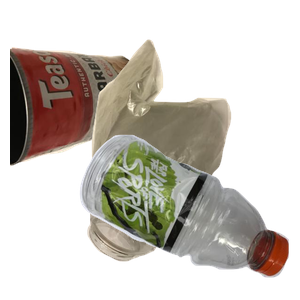glass: (85, 141, 275, 300)
metal: (10, 44, 151, 203)
plastic: (77, 132, 300, 300)
trash: (89, 37, 300, 213)
